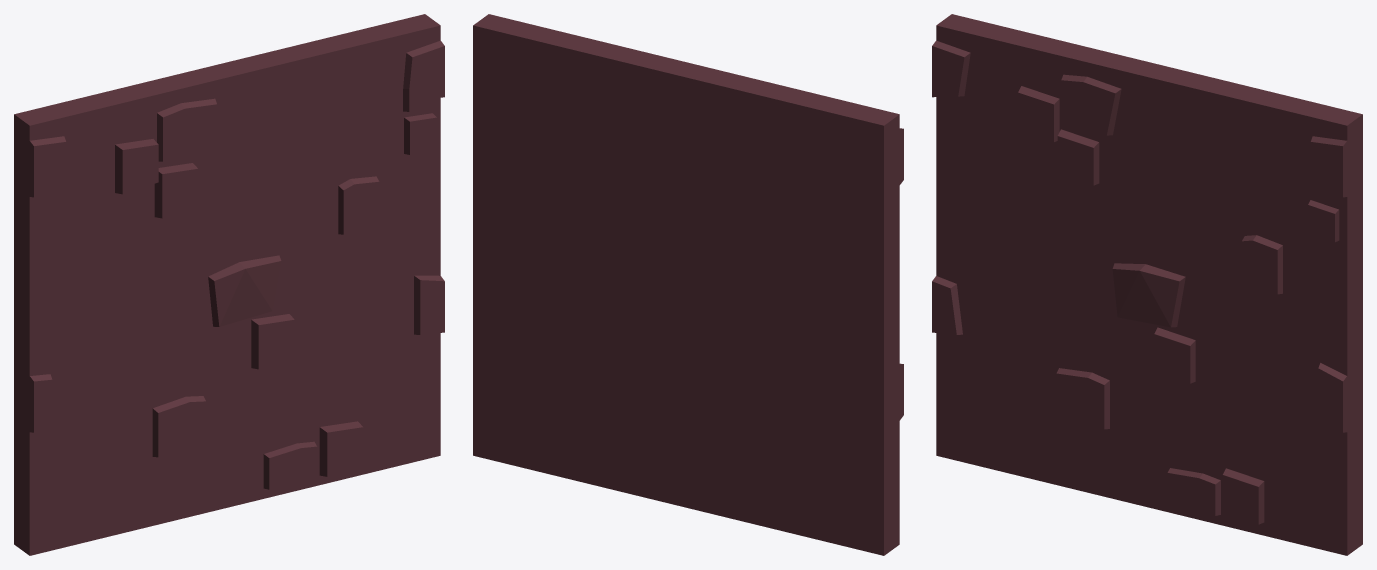
The model's file is SM_Stone_Wall_3x3_Empire.fbx.
The picture shows the model from 3 angles, left to right: view 1: azimuth 30°, elevation 25°; view 2: azimuth 150°, elevation 25°; view 3: azimuth 330°, elevation 25°; orthographic projection.
Visible parts, largest first — view 1: SM_Stone_Wall_3x3_Empire; view 2: SM_Stone_Wall_3x3_Empire; view 3: SM_Stone_Wall_3x3_Empire.
Part boxes in pixels (left/top/right/bottom): SM_Stone_Wall_3x3_Empire: left=14, top=14, right=444, bottom=555; SM_Stone_Wall_3x3_Empire: left=473, top=14, right=903, bottom=555; SM_Stone_Wall_3x3_Empire: left=932, top=14, right=1362, bottom=555.
Bounding box in the file's own units: 3 × 3 × 0.2753.
